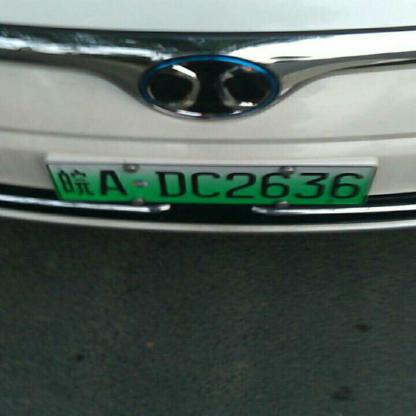lp: (46, 160, 62, 204)
